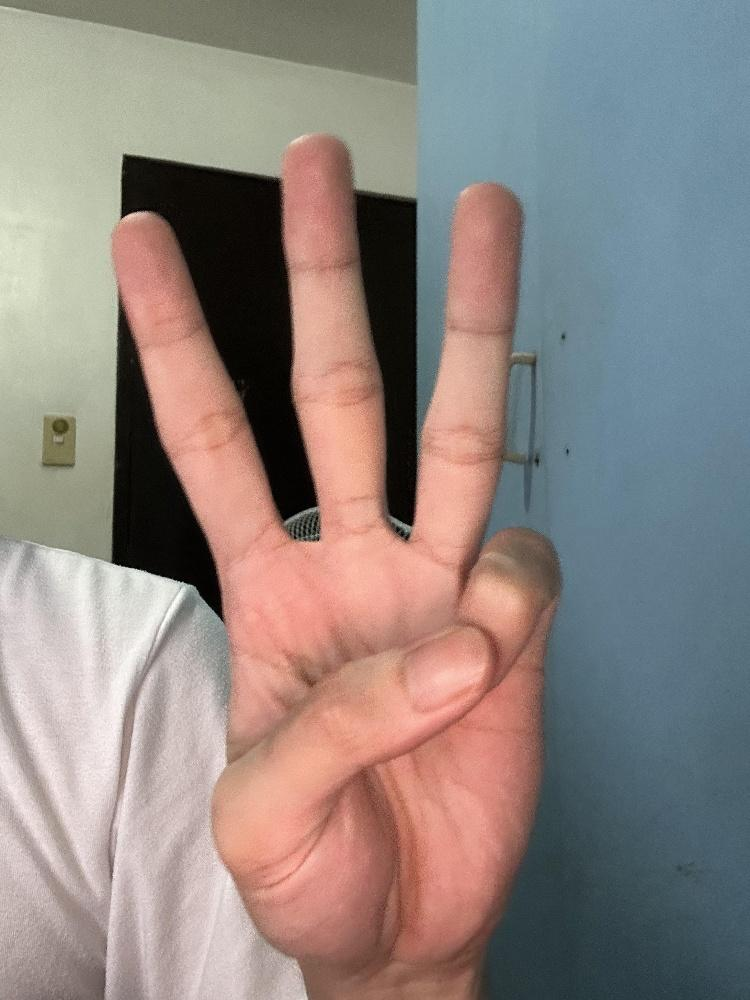w: (107, 127, 569, 970)
